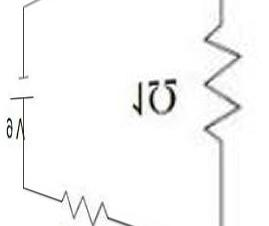Battery: (4, 63, 34, 107)
